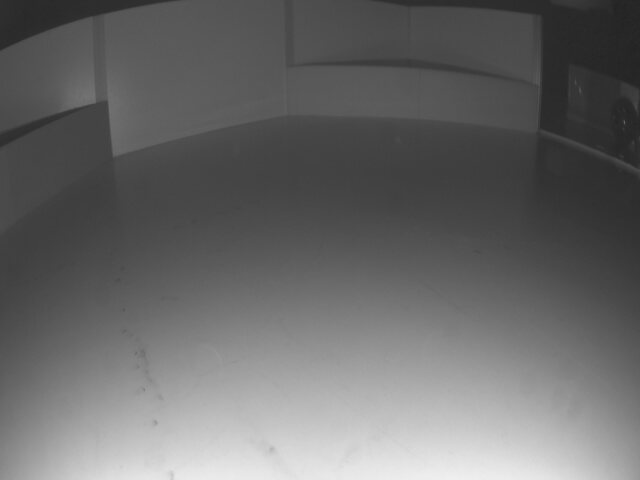Point: (287, 63, 535, 133), (0, 103, 108, 236)
